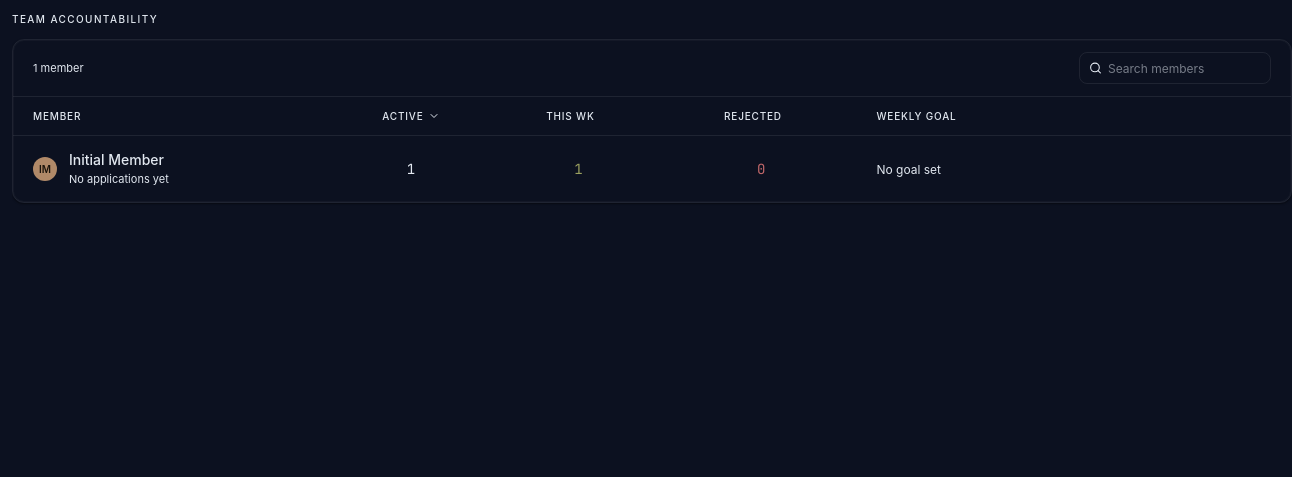
TeamAccountabilityCard › keeps the newest search result when an older request finishes last
The image size is (1292, 477).
Expected: the text "Initial Member" is shown, [69,150,164,170]
Type "a" into the field labelled "Search members" at (1175, 68), box [1079,52,1271,84]
Wait 250 ms
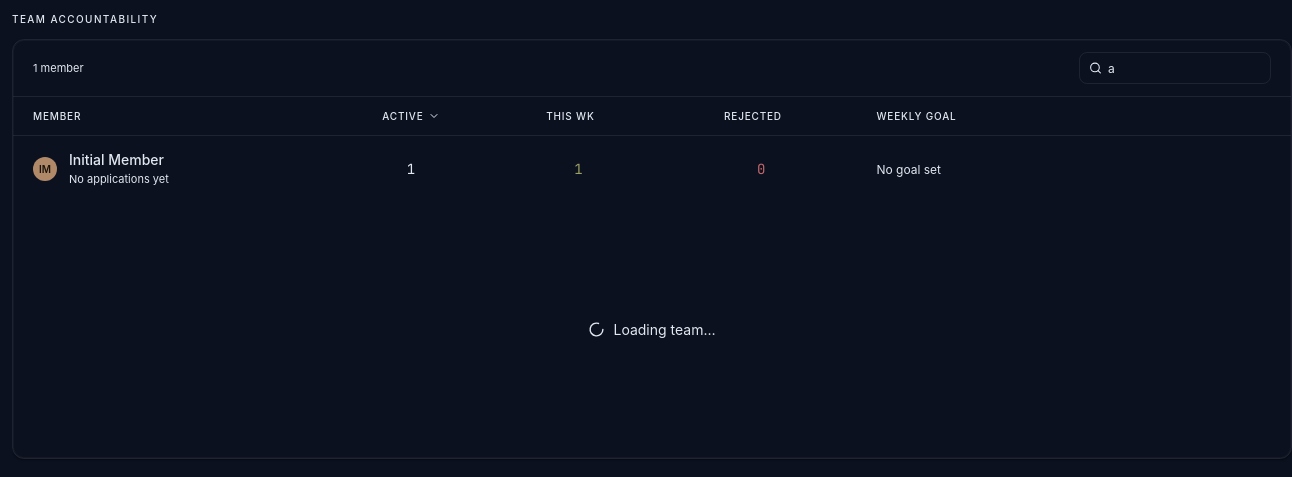
Replace the text in the field named "Search members" with "ab" at (1175, 68), box [1079,52,1271,84]
Wait 250 ms
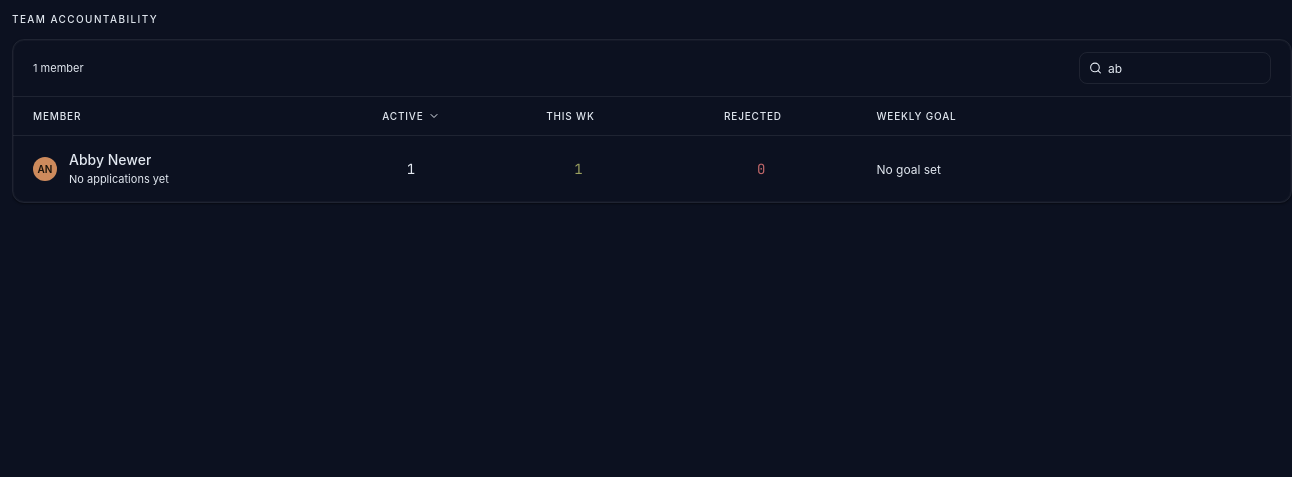
Now the text "Abby Newer" is shown, box [69,150,151,170]
